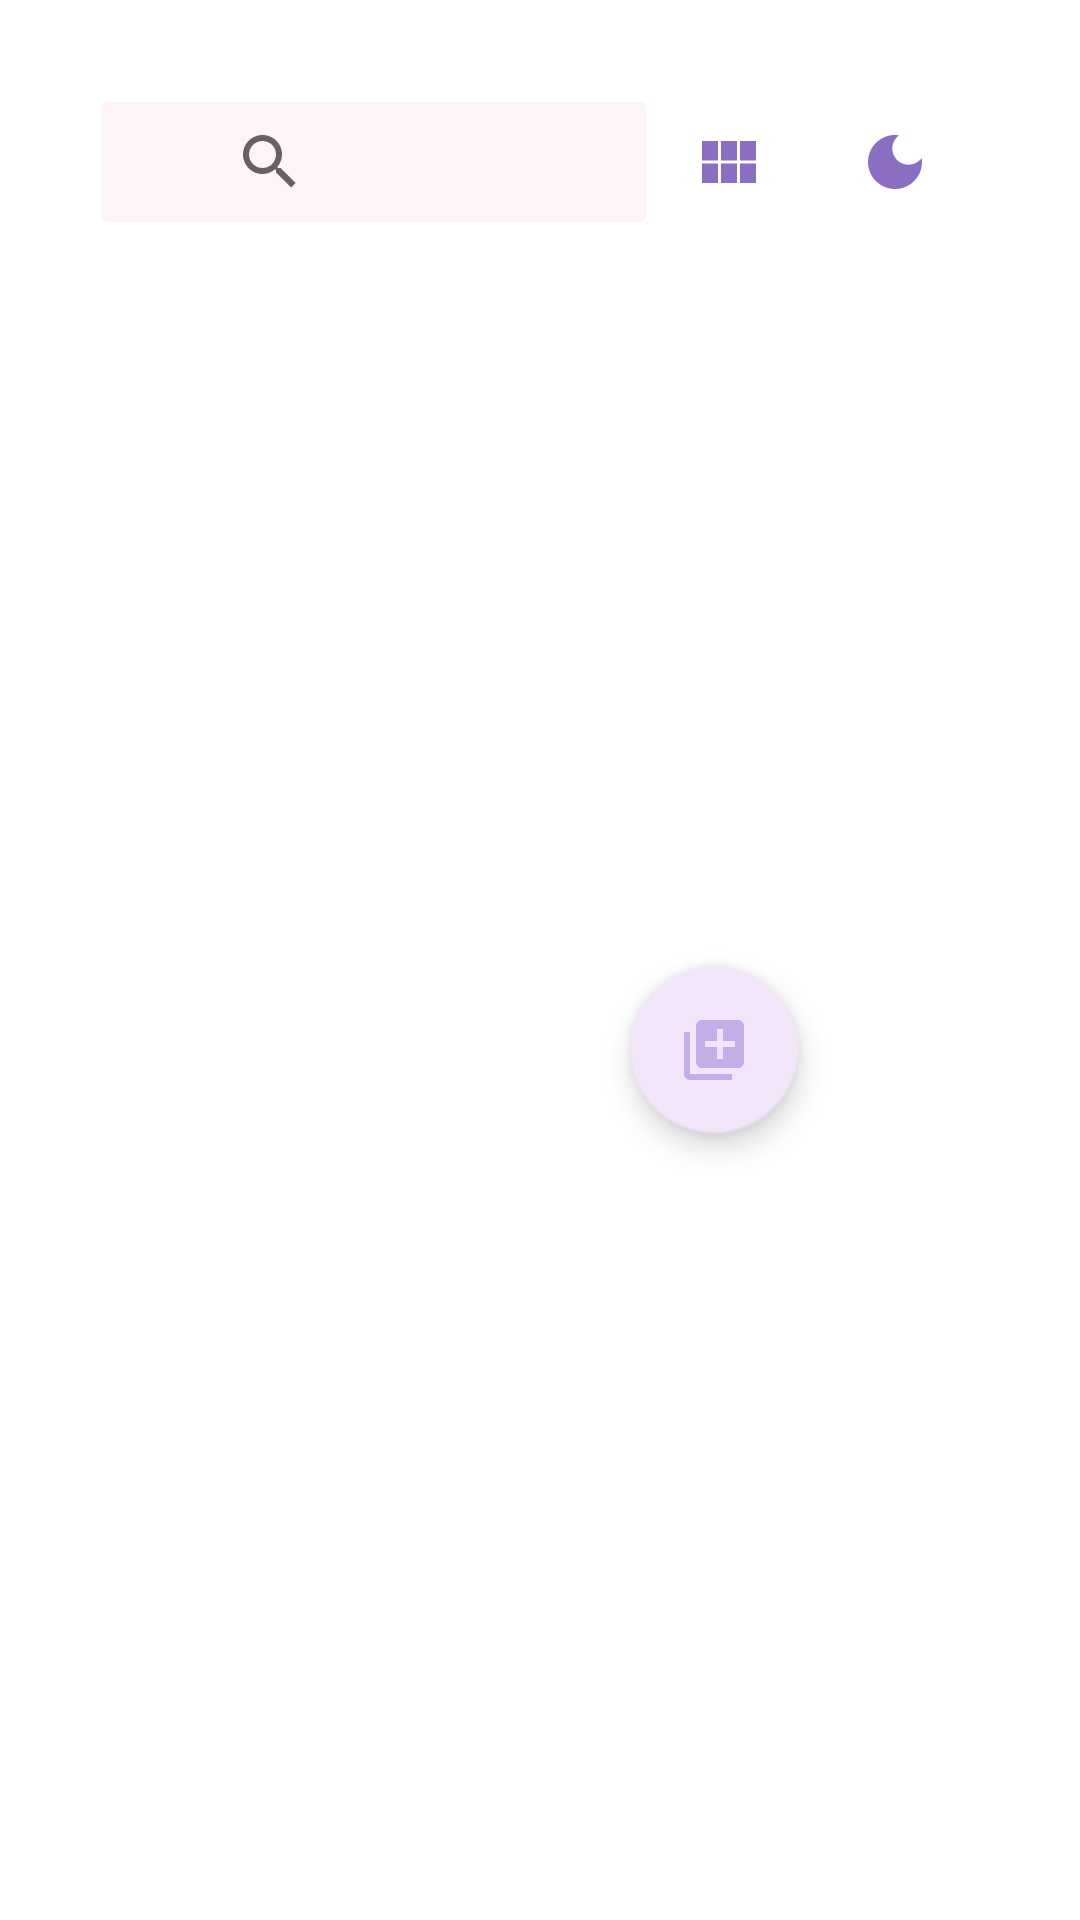

Named icons in this screenshot (1080w x 1920h) and their bounding boxes, bbox=(x1, y1, x2, y2):
add to notes: bbox=(630, 966, 798, 1134)
card view: bbox=(702, 141, 756, 183)
mode: bbox=(868, 135, 922, 189)
